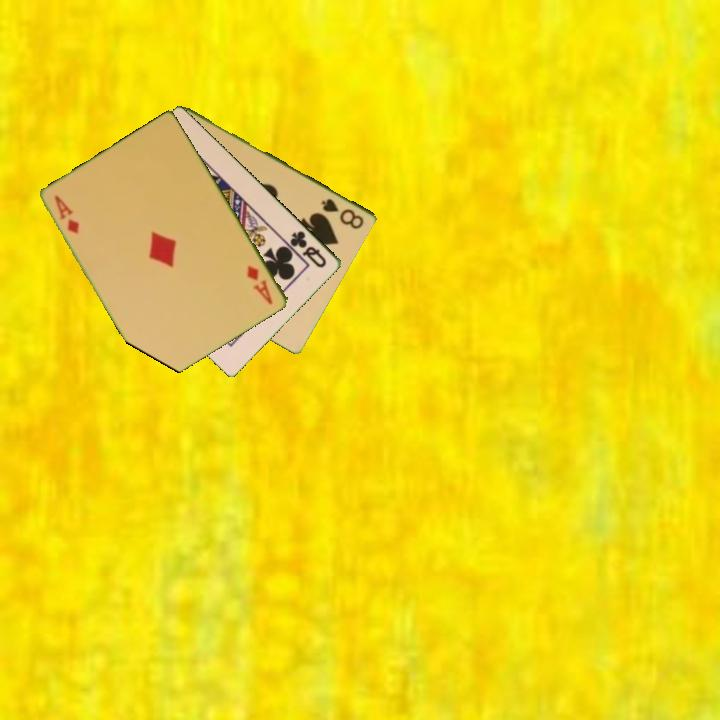8s: (318, 194, 367, 232)
Ad: (243, 262, 276, 308), (51, 191, 83, 237)
Qc: (287, 227, 330, 271)
